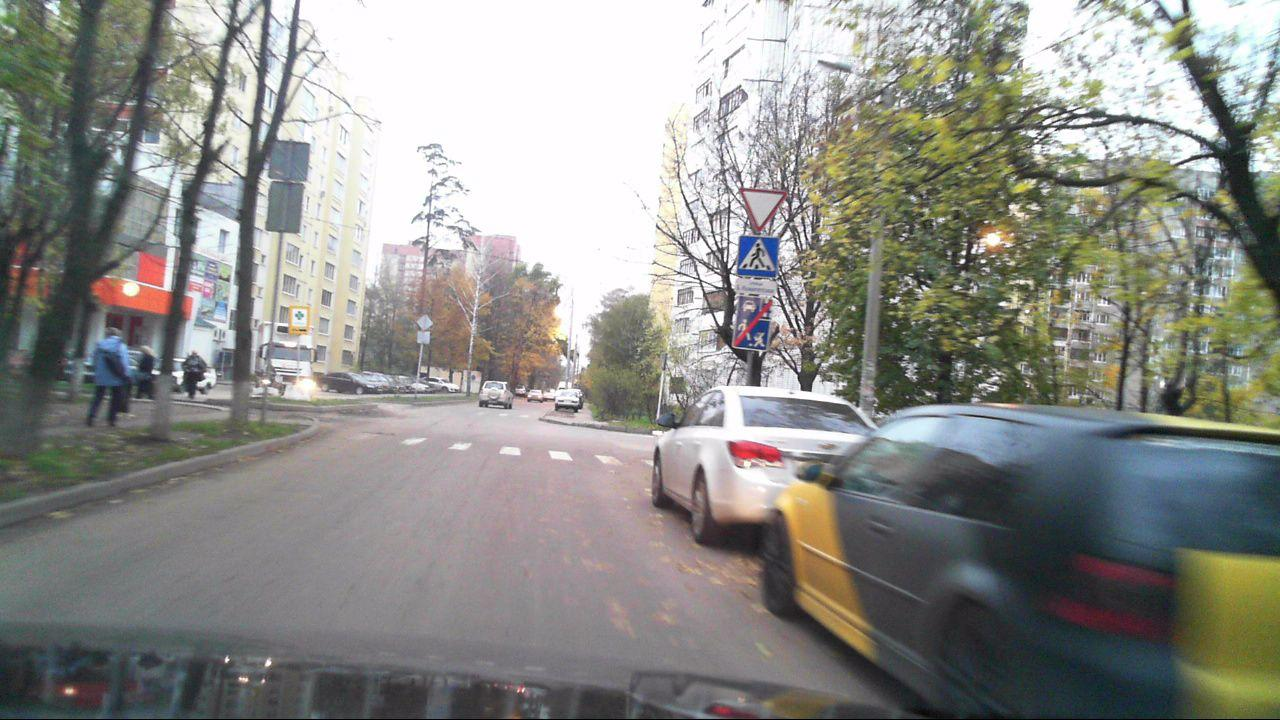2_4: (740, 188, 785, 230)
5_19_1: (738, 235, 781, 278)
5_22: (733, 297, 769, 349)
